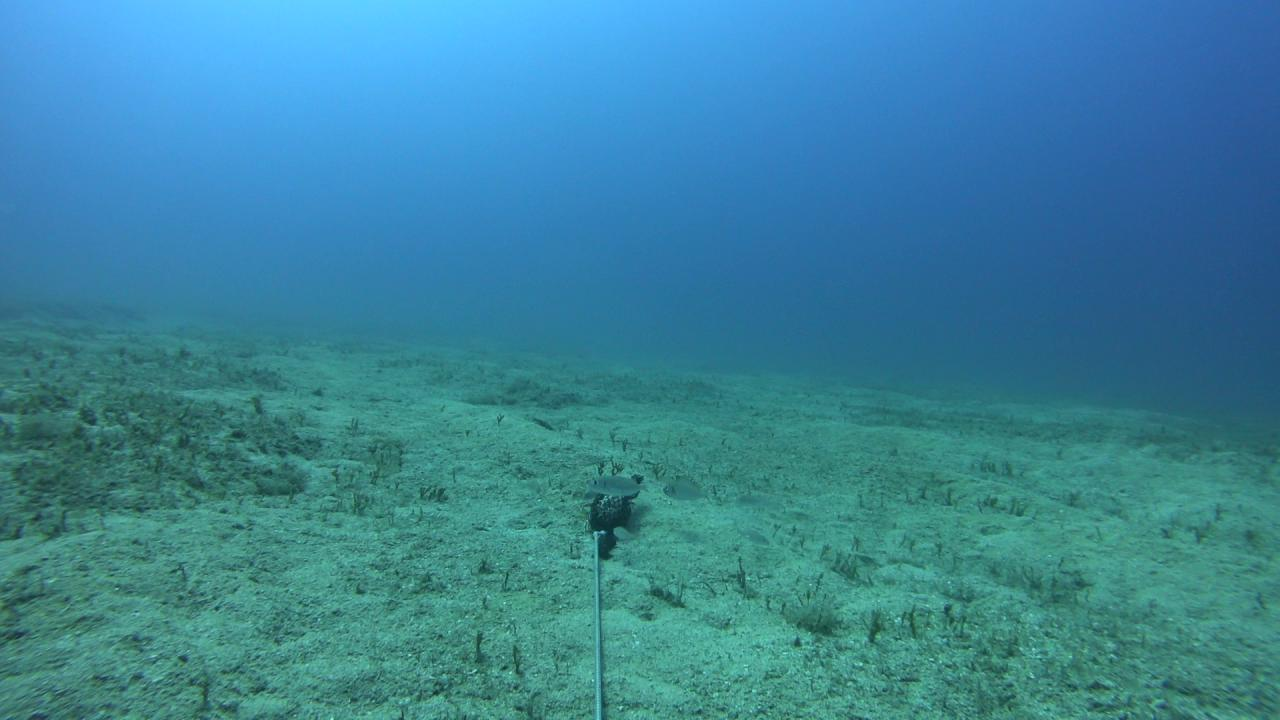pagellus: (588, 476, 652, 502), (662, 476, 712, 504), (737, 526, 770, 546), (736, 491, 768, 509), (612, 526, 638, 541)
